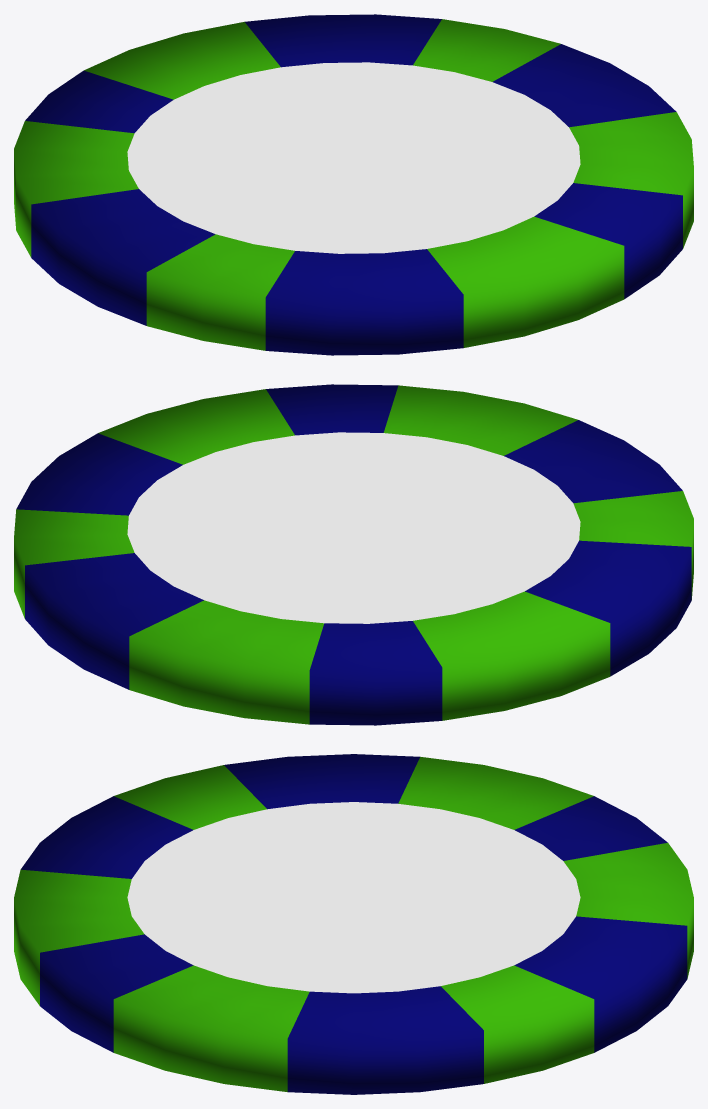
The model's file is Poker Chip.fbx.
The picture shows the model from 3 angles, top to bottom: view 1: azimuth 30°, elevation 25°; view 2: azimuth 150°, elevation 25°; view 3: azimuth 270°, elevation 25°; orthographic projection.
Parts seen in each view (by area): view 1: Cylinder; view 2: Cylinder; view 3: Cylinder.
Part boxes in pixels (x1=…): Cylinder: x1=14, y1=14, x2=693, y2=355; Cylinder: x1=14, y1=384, x2=693, y2=725; Cylinder: x1=14, y1=754, x2=693, y2=1094.
Bounding box in the file's own units: 360 × 31.26 × 360.
